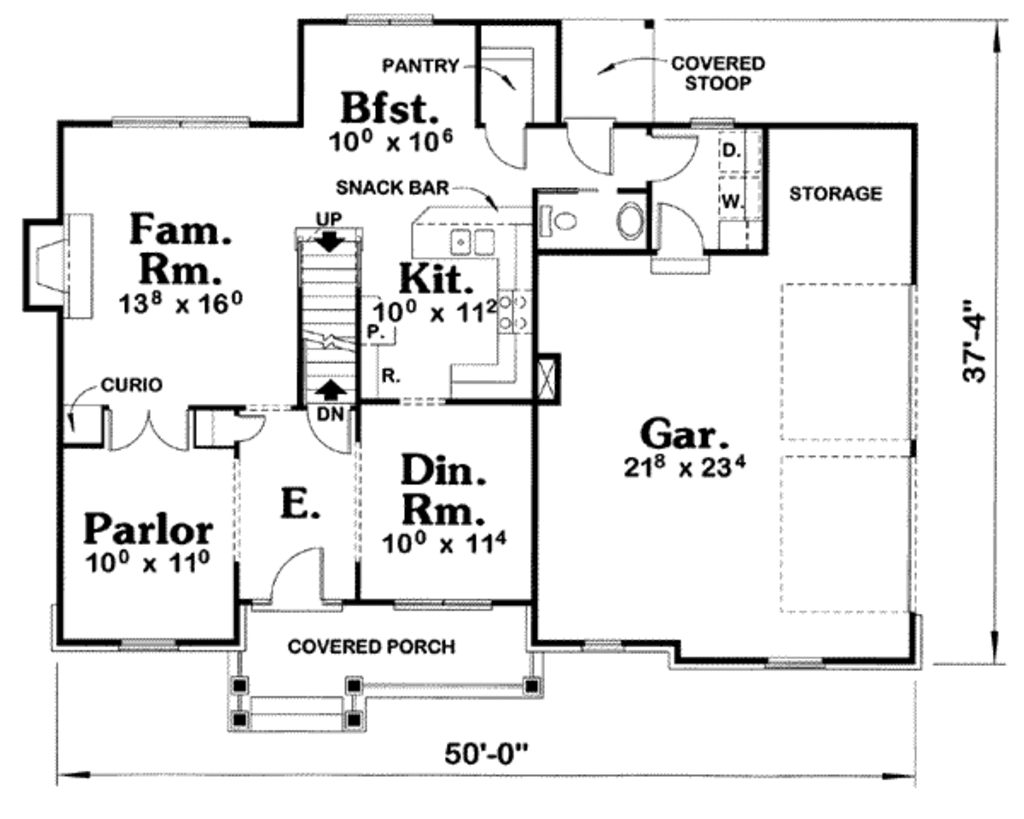door: (259, 541, 330, 608), (105, 406, 193, 459), (560, 110, 621, 183), (656, 199, 706, 261), (645, 131, 700, 186), (302, 403, 356, 456), (484, 120, 530, 177), (229, 403, 268, 442)
large_sink: (534, 199, 584, 241)
small_sink: (607, 196, 645, 248)
stairs: (291, 209, 370, 409)
twin_sink: (446, 221, 506, 263)
window: (110, 109, 257, 136), (386, 594, 497, 621), (342, 7, 436, 35), (752, 654, 831, 678), (111, 634, 177, 654), (584, 634, 631, 660)
